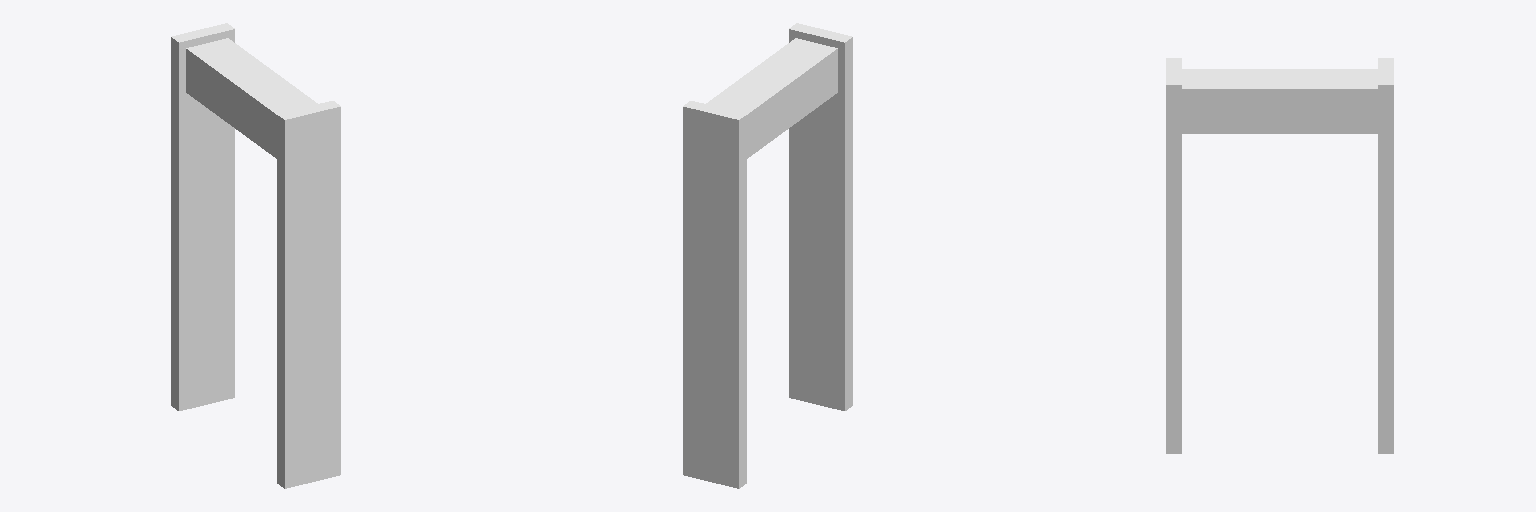
The model's file is Securitydetector.obj.
The picture shows the model from 3 angles: view 1: azimuth 30°, elevation 25°; view 2: azimuth 150°, elevation 25°; view 3: azimuth 270°, elevation 25°; orthographic projection.
Parts seen in each view (by area): view 1: object 1; view 2: object 1; view 3: object 1.
Boxes of the visible parts, x1,y1,x2,y2 form: object 1: [171, 23, 340, 488]; object 1: [683, 23, 852, 488]; object 1: [1166, 58, 1393, 453].
Bounding box in the file's own units: 0.8 × 5 × 2.8.